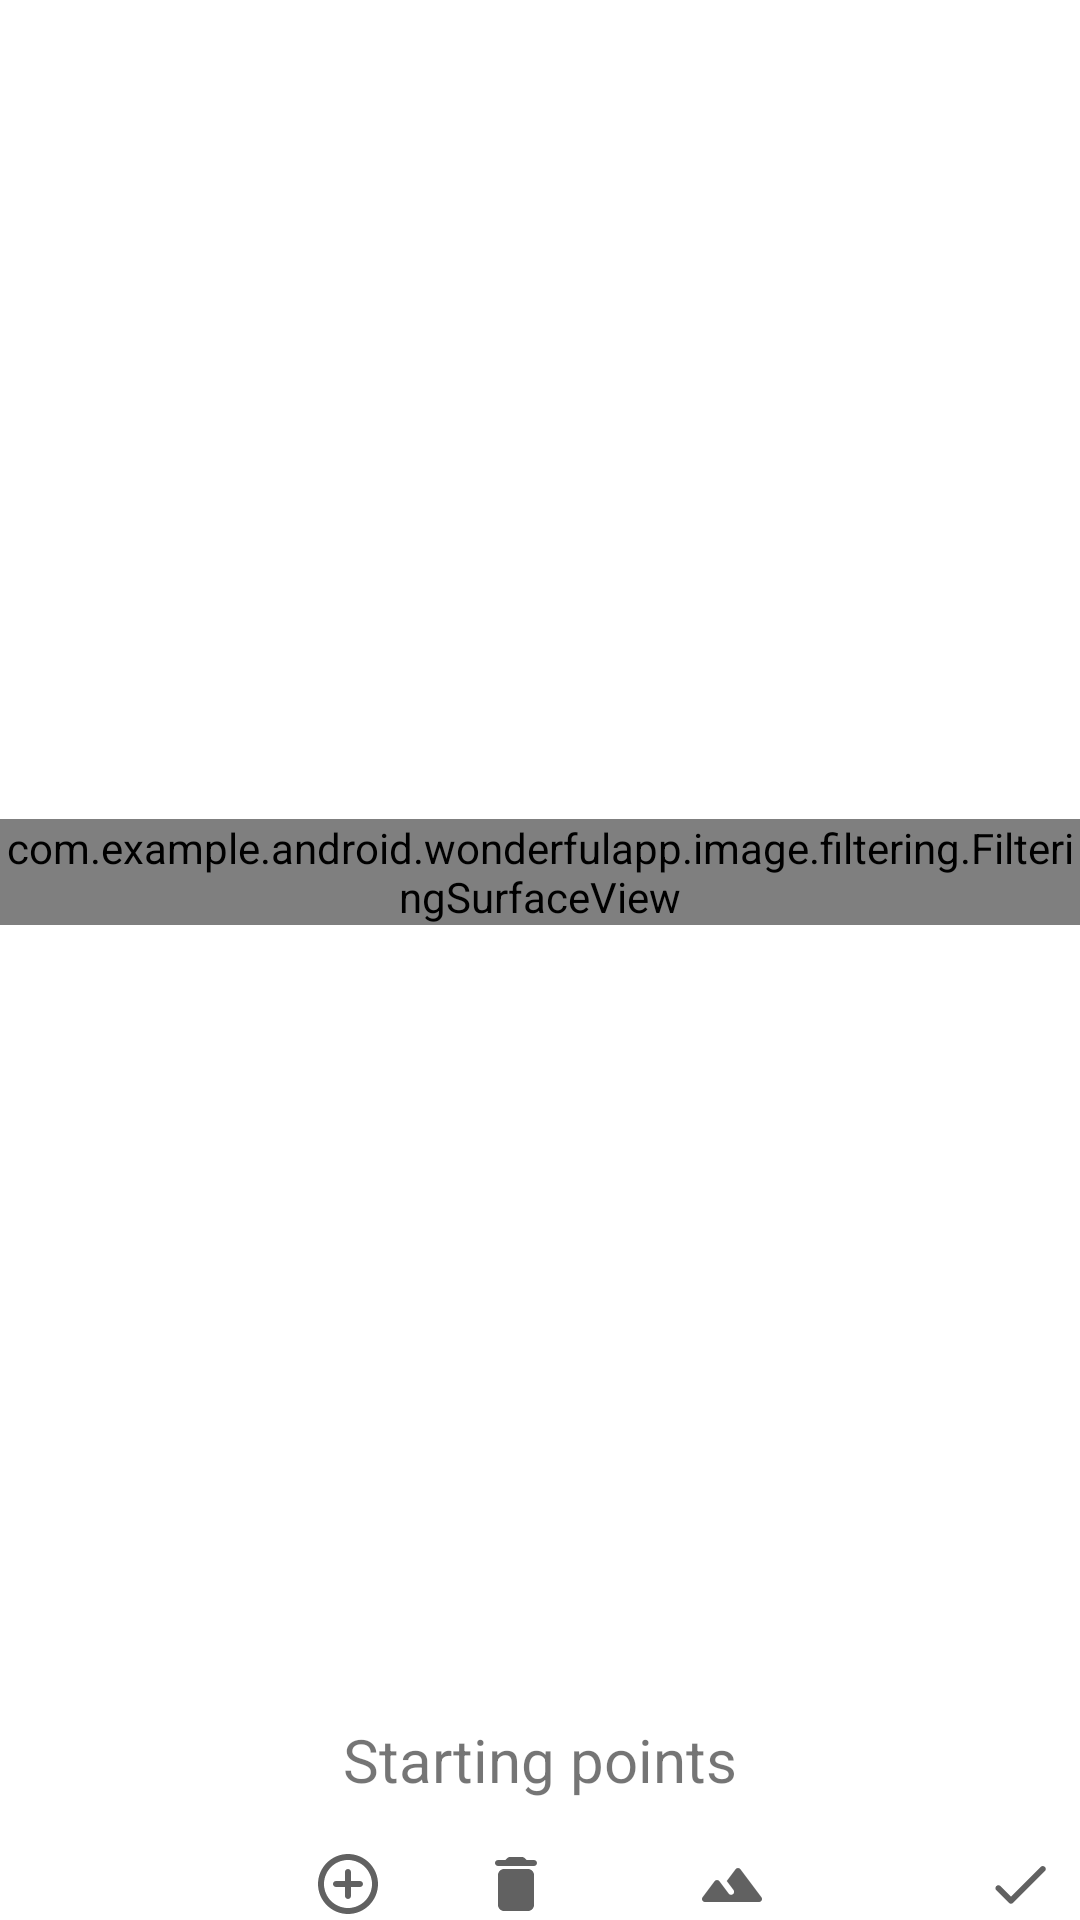

Icon bounding boxes for this 1080px x 1920px phone screenshot, format (x1, y1, x2, y2):
Clear the points: (495, 1857, 537, 1911)
